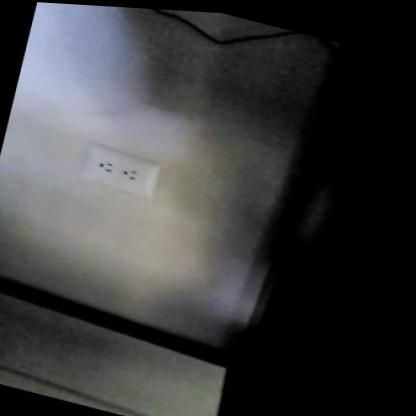OUTLET: (80, 141, 163, 197)
